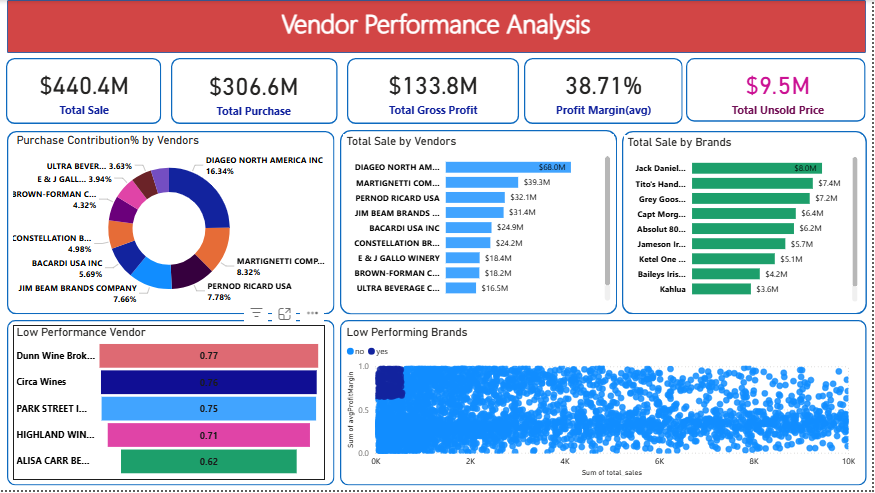

The page's visual inventory and layout, read from the dashboard file:
{"tool":"powerbi","page":{"name":"Page 1","canvas":[1280,720],"ordinal":0},"visuals":[{"type":"group","id":"g1","title":"Group 1","box":[8.2,85.4,228.4,96.9],"z":0},{"type":"shape","box":[8.2,85.4,228.4,96.9],"z":0,"group":"g2"},{"type":"shape","box":[251.4,85.4,245,96.9],"z":0,"group":"g4"},{"type":"shape","box":[509.4,85.4,253,96.9],"z":0,"group":"g3"},{"type":"shape","box":[770.6,85.4,233.3,96.9],"z":0,"group":"g6"},{"type":"shape","box":[1008.1,85.6,263.8,93.5],"z":0,"group":"g7"},{"type":"group","id":"g2","title":"Group 2","box":[8.2,85.4,228.4,96.9],"z":5,"group":"g1"},{"type":"group","id":"g3","title":"Group 2","box":[509.4,85.4,253,96.9],"z":5,"group":"g5"},{"type":"group","id":"g4","title":"Group 1","box":[251.4,85.4,239.9,96.9],"z":1000},{"type":"card","fields":{"Values":["Sum(vendor_summary_data.orignal_unsold_price)"]},"box":[1013,85.4,261.3,95.3],"z":1000,"group":"g7"},{"type":"card","fields":{"Values":["Sum(vendor_summary_data.total_sale_dollar)"]},"box":[12.7,92,220.8,83.8],"z":1000,"group":"g2"},{"type":"card","fields":{"Values":["Sum(vendor_summary_data.gross_profit)"]},"box":[514.4,92,244.7,83.8],"z":1000,"group":"g3"},{"type":"card","fields":{"Values":["Avg(vendor_summary_data.margin)"]},"box":[775.2,92,225.6,83.8],"z":1000,"group":"g6"},{"type":"card","fields":{"Values":["Sum(vendor_summary_data.total_dollar_purchase)"]},"box":[254.6,93.3,236.9,83.8],"z":1000,"group":"g4"},{"type":"group","id":"g5","title":"Group 1","box":[509.4,85.4,253,96.9],"z":2000},{"type":"group","id":"g6","title":"Group 2","box":[770.6,85.4,233.3,96.9],"z":3000},{"type":"group","id":"g7","title":"Group 2","box":[1008.1,85.4,266.2,95.3],"z":4000},{"type":"shape","box":[9.9,192.2,481.4,269.5],"z":5000},{"type":"donutChart","title":"Purchase Contribution% by Vendors","fields":{"Category":["purchaseContribution.VendorName"],"Y":["Sum(purchaseContribution.purchseContribution%)"]},"box":[19.7,195.5,458.4,261.3],"z":6000},{"type":"shape","box":[499.5,190.6,407.5,271.1],"z":7000},{"type":"barChart","title":"Total Sale by Vendors","fields":{"Category":["vendor_summary_data.VendorName"],"Y":["Sum(vendor_summary_data.total_sale_dollar)"]},"box":[504.4,197.2,397.6,249.8],"z":8000},{"type":"shape","box":[913.6,192.2,359.8,269.5],"z":9000},{"type":"barChart","title":"Total Sale by Brands","fields":{"Category":["vendor_summary_data.Description"],"Y":["Sum(vendor_summary_data.total_sale_dollar)"]},"box":[916.9,198.8,348.3,249.8],"z":10000},{"type":"shape","box":[9.9,469.9,481.4,243.2],"z":11000},{"type":"shape","box":[10.3,0,1262.2,77.9],"z":12000},{"type":"funnel","title":"Low Performance Vendor","fields":{"Category":["lowTurnOver.VendorName"],"Y":["Sum(lowTurnOver.Avg_Stock_TurnOver)"]},"box":[19.7,478.2,458.4,226.8],"z":13000},{"type":"shape","box":[499.5,469.9,773.9,243.2],"z":14000},{"type":"scatterChart","title":"Low Performing Brands","fields":{"Category":["brandperformance.Description"],"X":["Sum(brandperformance.total_sales)"],"Y":["Sum(brandperformance.avgProfitMargin)"],"Series":["brandperformance.TargetBrand"]},"box":[504.4,478.2,757.5,226.8],"z":15000},{"type":"textbox","box":[408.5,2.9,483.4,67.6],"z":16000}]}

Visuals, with their boxes in screenshot pixels (x1, y1, x2, y2), scaled from the page's 1280x720 canvas onto the 875x493 screenshot:
"Group 1" group: crop(6, 58, 162, 125)
shape: crop(6, 58, 162, 125)
shape: crop(172, 58, 339, 125)
shape: crop(348, 58, 521, 125)
shape: crop(527, 58, 686, 125)
shape: crop(689, 59, 869, 123)
"Group 2" group: crop(6, 58, 162, 125)
"Group 2" group: crop(348, 58, 521, 125)
"Group 1" group: crop(172, 58, 336, 125)
card - Sum(vendor_summary_data.orignal_unsold_price): crop(692, 58, 871, 124)
card - Sum(vendor_summary_data.total_sale_dollar): crop(9, 63, 160, 120)
card - Sum(vendor_summary_data.gross_profit): crop(352, 63, 519, 120)
card - Avg(vendor_summary_data.margin): crop(530, 63, 684, 120)
card - Sum(vendor_summary_data.total_dollar_purchase): crop(174, 64, 336, 121)
"Group 1" group: crop(348, 58, 521, 125)
"Group 2" group: crop(527, 58, 686, 125)
"Group 2" group: crop(689, 58, 871, 124)
shape: crop(7, 132, 336, 316)
"Purchase Contribution% by Vendors" donutChart: crop(13, 134, 327, 313)
shape: crop(341, 131, 620, 316)
"Total Sale by Vendors" barChart: crop(345, 135, 617, 306)
shape: crop(625, 132, 870, 316)
"Total Sale by Brands" barChart: crop(627, 136, 865, 307)
shape: crop(7, 322, 336, 488)
shape: crop(7, 0, 870, 53)
"Low Performance Vendor" funnel: crop(13, 327, 327, 483)
shape: crop(341, 322, 870, 488)
"Low Performing Brands" scatterChart: crop(345, 327, 863, 483)
textbox: crop(279, 2, 610, 48)
